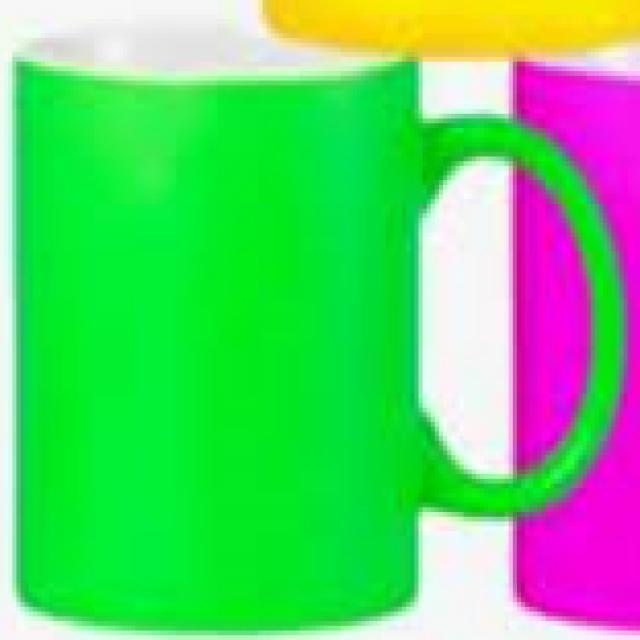taza: (9, 27, 628, 612)
